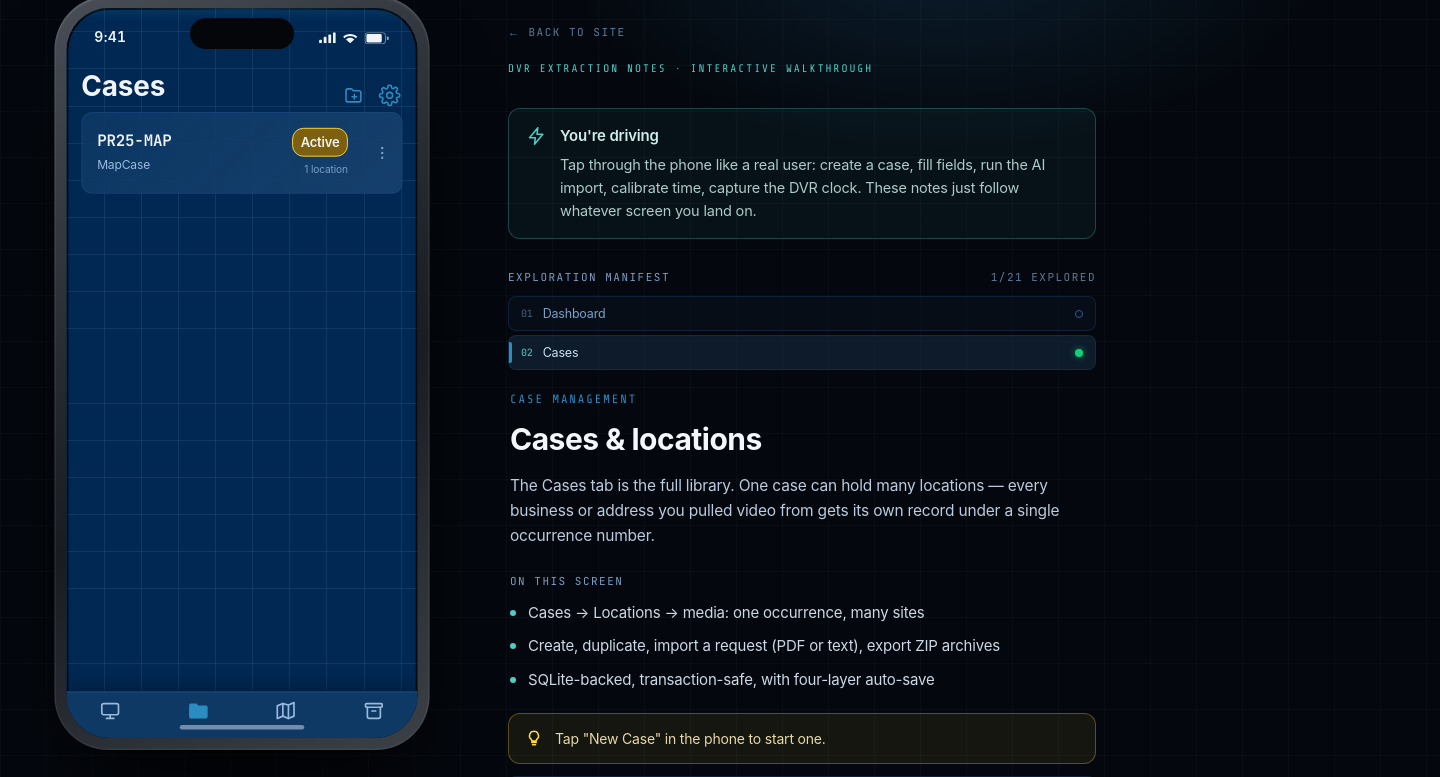
Test case: DemoExperience — Export Map › names the locations left off the map, even when the incident pin is on it (review R-1)
Click the button named "Map" at (286, 712), box [242,698,330,727]
(page scrolled)
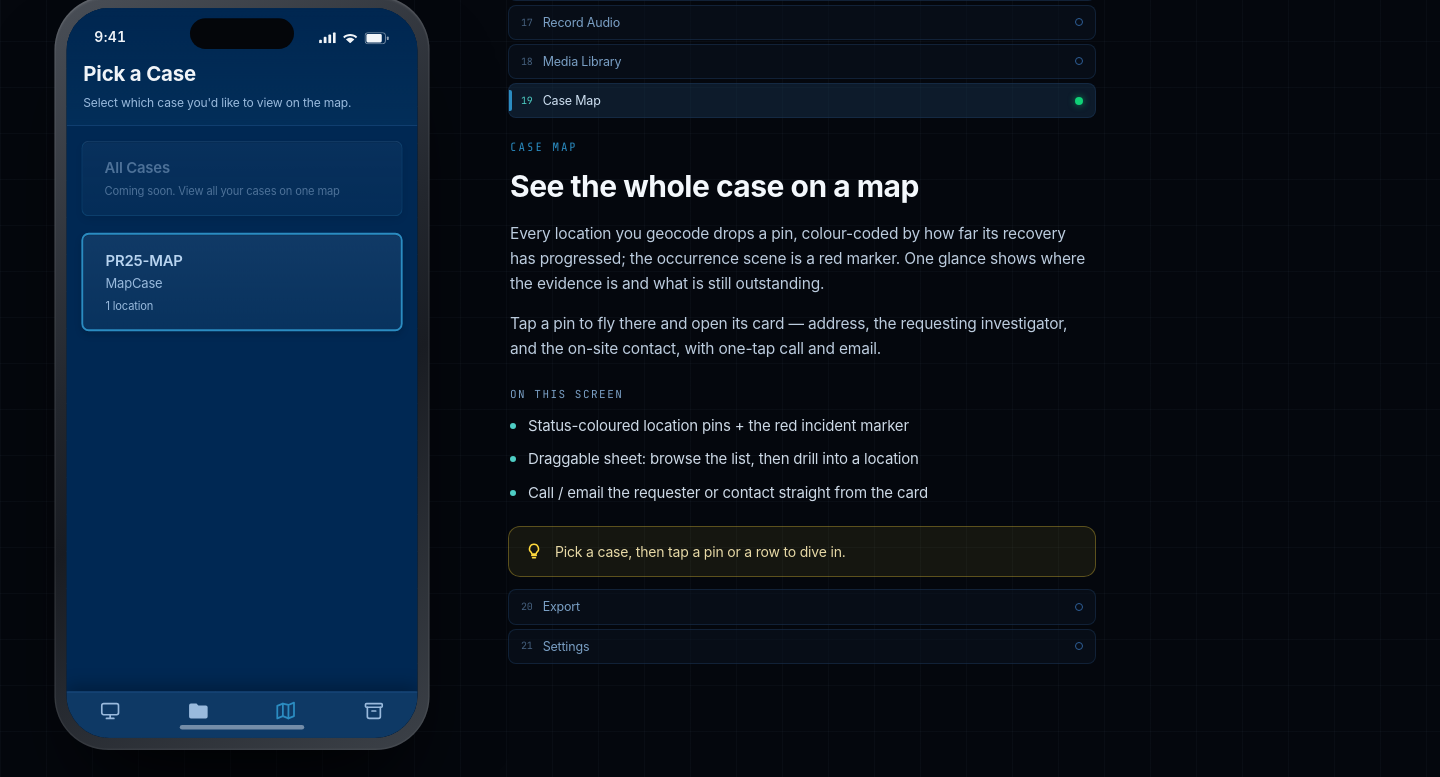
Click the text "MapCase" at (134, 283), box [106,275,162,291]
(page scrolled)
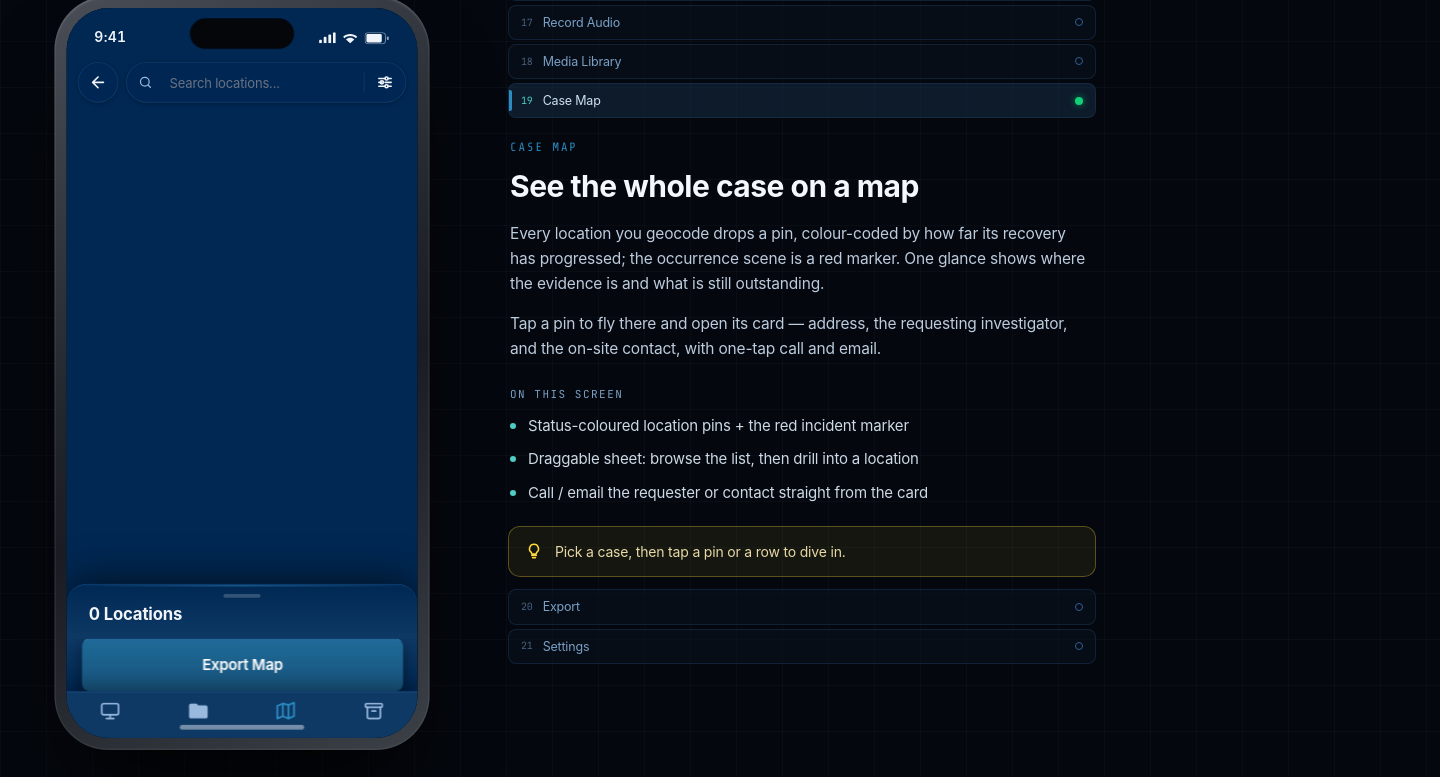
Check: the button with test id "export-map-button" is enabled
Click the button with test id "export-map-button" at (242, 665), box [81,638,403,692]
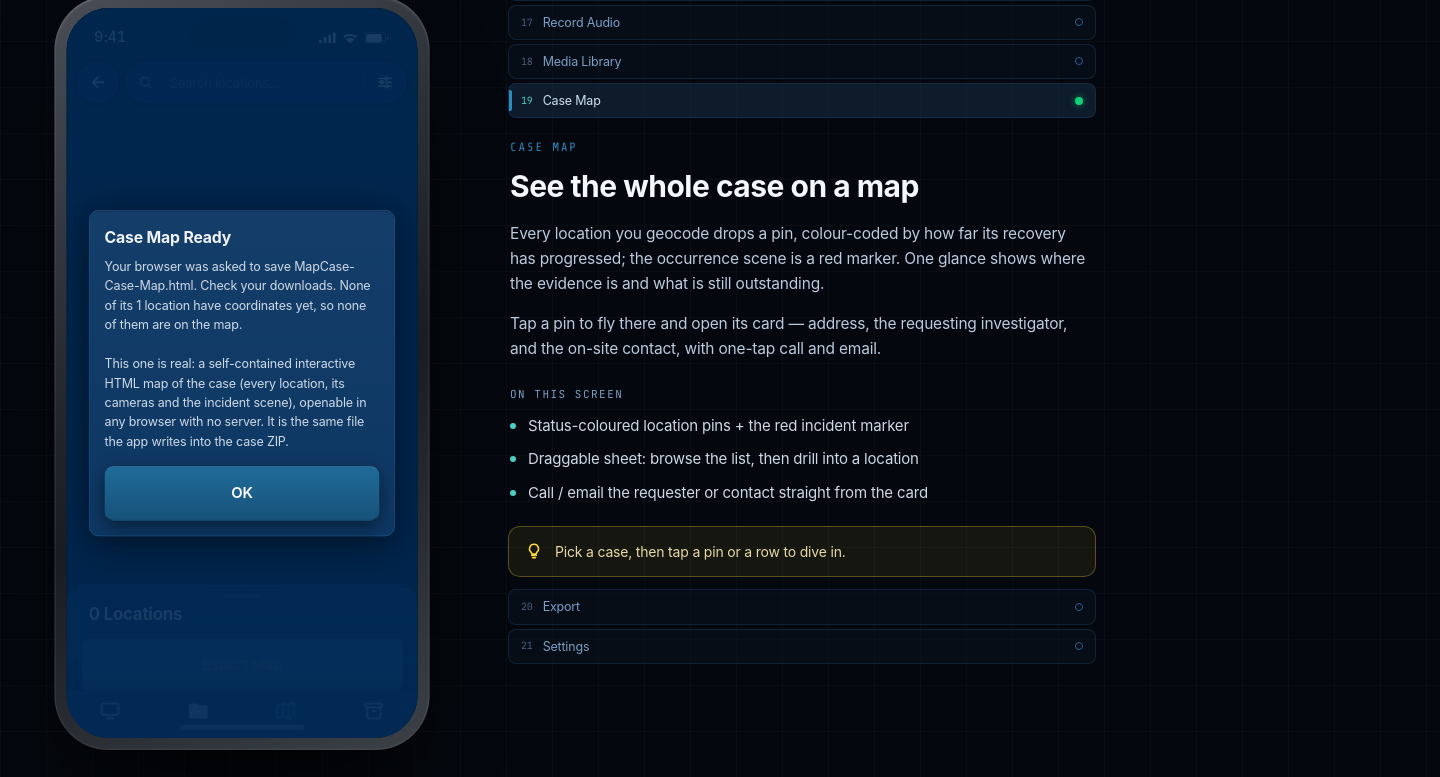
Check: the dialog does not show "opens with an empty map", box [89,209,395,536]
Check: the dialog shows "None of its 1 location have coordinates yet, so none of them are on the map.", box [105,259,370,448]
